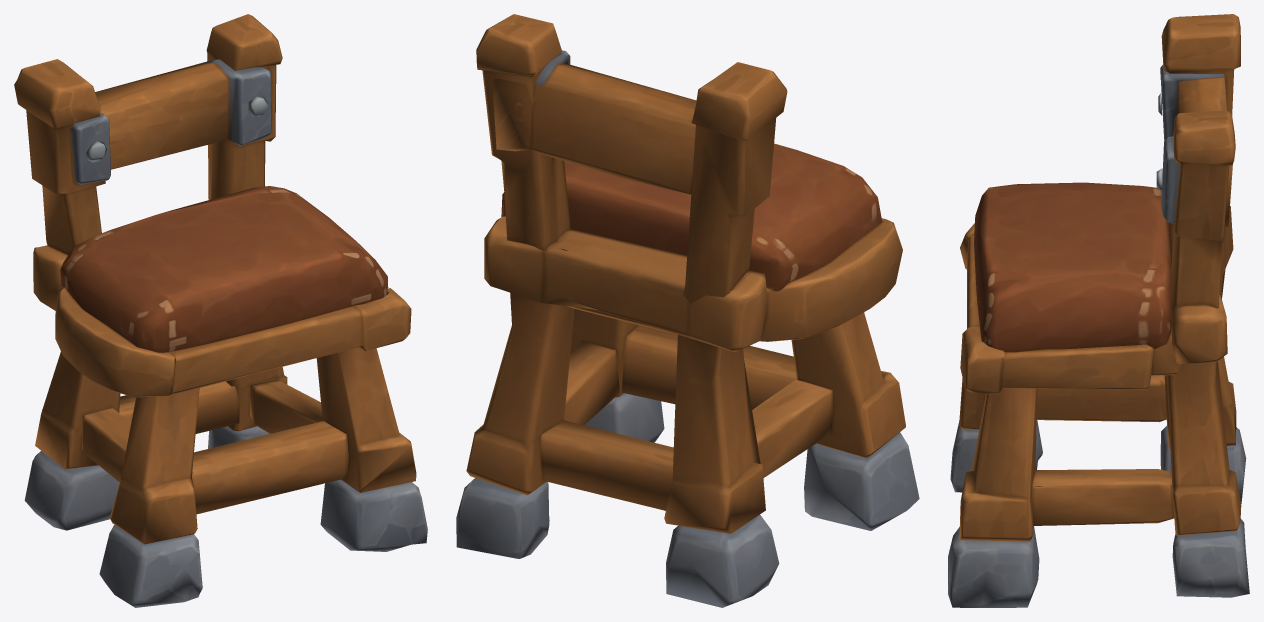
File: atelier_bois.glb
3 views of the same model, side by side, from view 1: azimuth 30°, elevation 25°; view 2: azimuth 150°, elevation 25°; view 3: azimuth 270°, elevation 25° (orthographic). The views are drawn at different scales.
Parts seen in each view (by area): view 1: geometry_0; view 2: geometry_0; view 3: geometry_0.
Boxes of the visible parts, left/top/right/bottom form: geometry_0: left=14, top=14, right=427, bottom=607; geometry_0: left=456, top=14, right=919, bottom=607; geometry_0: left=948, top=14, right=1249, bottom=607.
Bounding box in the file's own units: 0.6792 × 0.9531 × 0.5649.
Materials: 1 (1 with a texture image).
